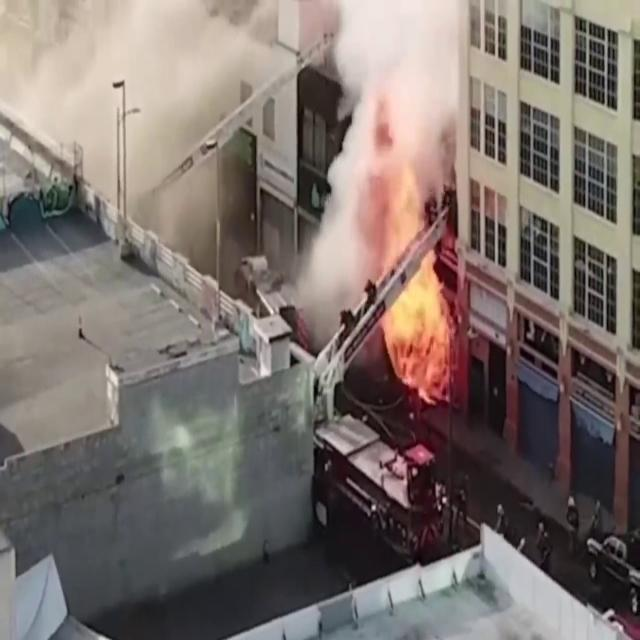Fire: (381, 246, 459, 398)
Smoke: (294, 0, 475, 415), (3, 0, 255, 270)
